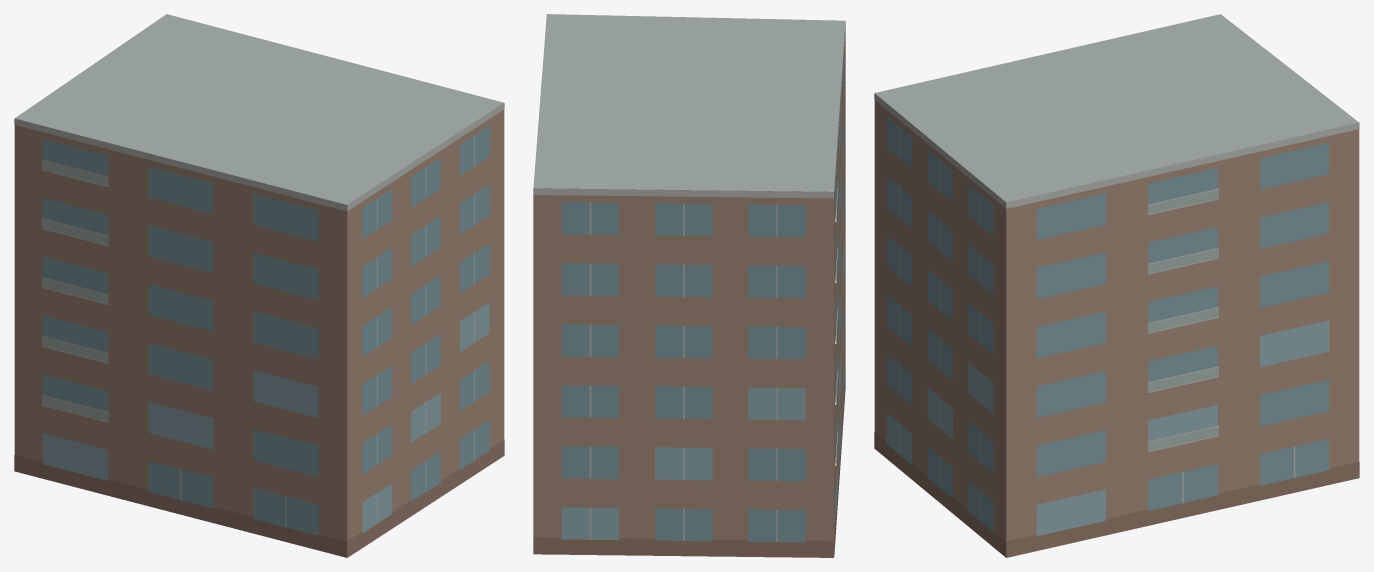
The model's file is survey-upis-32995592.glb.
3 renders of one model, left to right at view 1: azimuth 30°, elevation 25°; view 2: azimuth 150°, elevation 25°; view 3: azimuth 270°, elevation 25°, orthographic. The views are drawn at different scales.
Parts seen in each view (by area): view 1: survey-upis-32995592.tmp; view 2: survey-upis-32995592.tmp; view 3: survey-upis-32995592.tmp.
Part boxes in pixels (x1,y1,x2,y2): survey-upis-32995592.tmp: (14, 14, 504, 557); survey-upis-32995592.tmp: (533, 14, 845, 557); survey-upis-32995592.tmp: (874, 14, 1359, 557).
Size of the model in its own units: 15.19 by 13.35 by 16.52.
